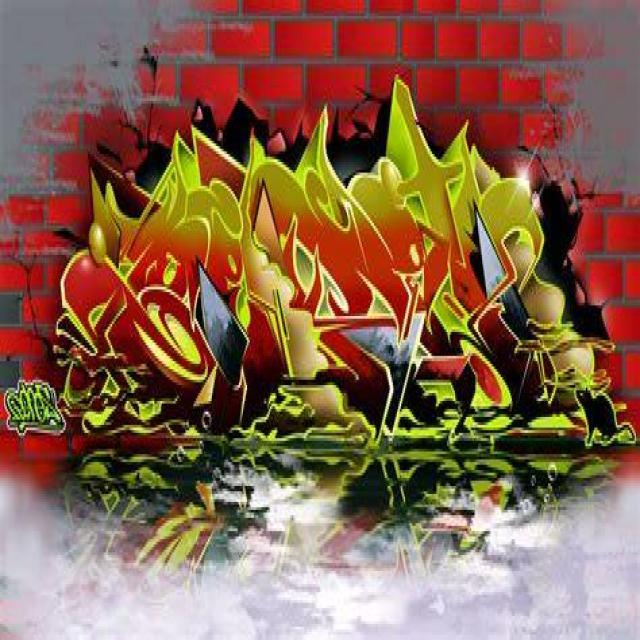nonspitting: (54, 77, 636, 490), (6, 372, 64, 444)
